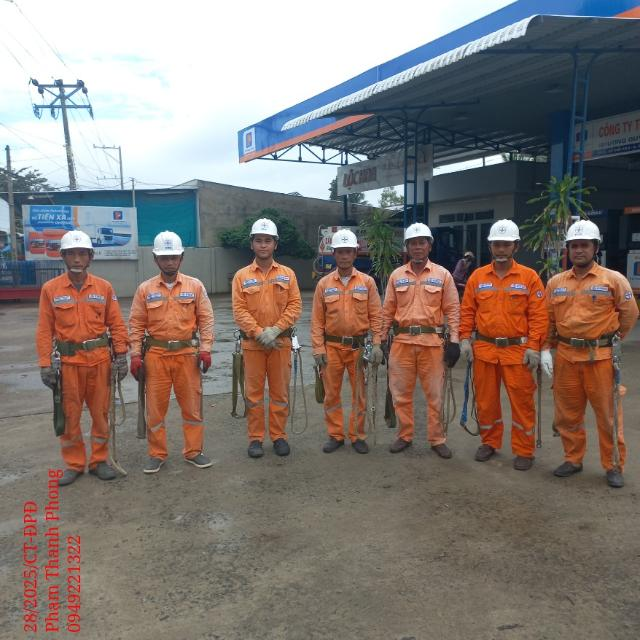gloves: (120, 345, 147, 380), (256, 328, 283, 353), (535, 346, 556, 378), (38, 360, 56, 391), (454, 339, 477, 363), (109, 355, 131, 379), (519, 346, 541, 369), (445, 340, 461, 369), (258, 326, 280, 347), (377, 335, 394, 361), (198, 352, 218, 373), (368, 344, 384, 370), (312, 352, 328, 366)
harness: (386, 313, 448, 342), (465, 324, 534, 350), (138, 330, 202, 358), (56, 330, 117, 358), (550, 327, 618, 352), (316, 328, 374, 352), (233, 324, 300, 342)
helmet: (141, 225, 186, 259), (561, 215, 602, 243), (58, 227, 97, 255), (483, 218, 524, 244), (244, 214, 279, 242), (326, 227, 362, 254), (401, 222, 433, 245)
shoes: (548, 454, 585, 481), (182, 447, 217, 473), (346, 429, 376, 458), (600, 460, 630, 489), (426, 438, 459, 464), (385, 431, 414, 457), (47, 465, 80, 486), (508, 449, 535, 474), (469, 443, 500, 462), (89, 461, 117, 482), (269, 430, 290, 458), (242, 436, 266, 460), (141, 452, 163, 476), (320, 434, 344, 456)
